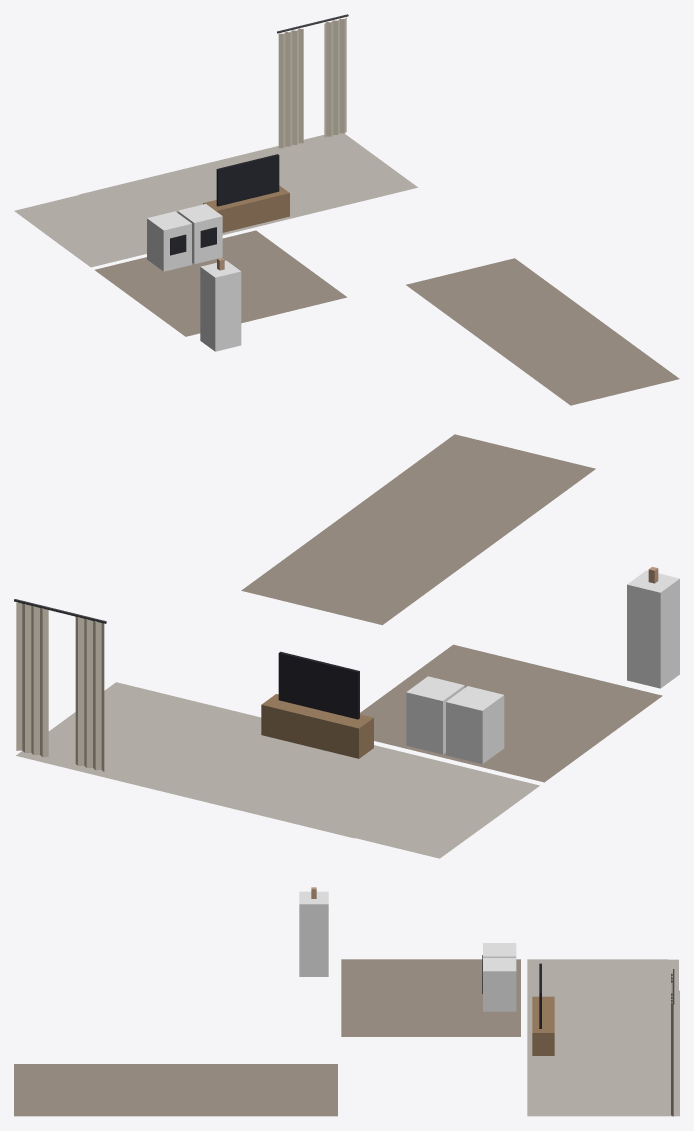
File: fine-s0.glb
The picture shows the model from 3 angles, top to bottom: view 1: azimuth 30°, elevation 25°; view 2: azimuth 150°, elevation 25°; view 3: azimuth 270°, elevation 25°; orthographic projection. The views are drawn at different scales.
Visible parts, largest first — view 1: soft-s0, tv-console.000, water-heater.000, washer.000, washer.001; view 2: soft-s0, tv-console.000, water-heater.000, washer.000, washer.001; view 3: soft-s0, water-heater.000, washer.001, tv-console.000, washer.000.
Part boxes in pixels (bbox=[...]): soft-s0: bbox=[14, 14, 679, 405]; tv-console.000: bbox=[203, 154, 289, 232]; water-heater.000: bbox=[200, 257, 241, 351]; washer.000: bbox=[147, 211, 191, 271]; washer.001: bbox=[177, 204, 222, 264]; soft-s0: bbox=[14, 434, 662, 858]; tv-console.000: bbox=[261, 651, 373, 758]; water-heater.000: bbox=[627, 567, 679, 688]; washer.000: bbox=[446, 686, 504, 764]; washer.001: bbox=[406, 676, 464, 754]; soft-s0: bbox=[14, 959, 679, 1116]; water-heater.000: bbox=[299, 887, 328, 976]; washer.001: bbox=[482, 957, 516, 1011]; tv-console.000: bbox=[532, 963, 554, 1055]; washer.000: bbox=[482, 943, 516, 969].
Size of the model in its own units: 7.03 by 2.4 by 12.45.
